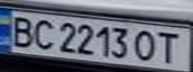1: (93, 24, 115, 58)
2: (54, 19, 78, 55), (72, 21, 96, 56)
3: (109, 25, 133, 60)
B: (3, 14, 39, 47)
C: (27, 17, 57, 51)
O: (130, 28, 160, 63)
T: (154, 29, 187, 65)
